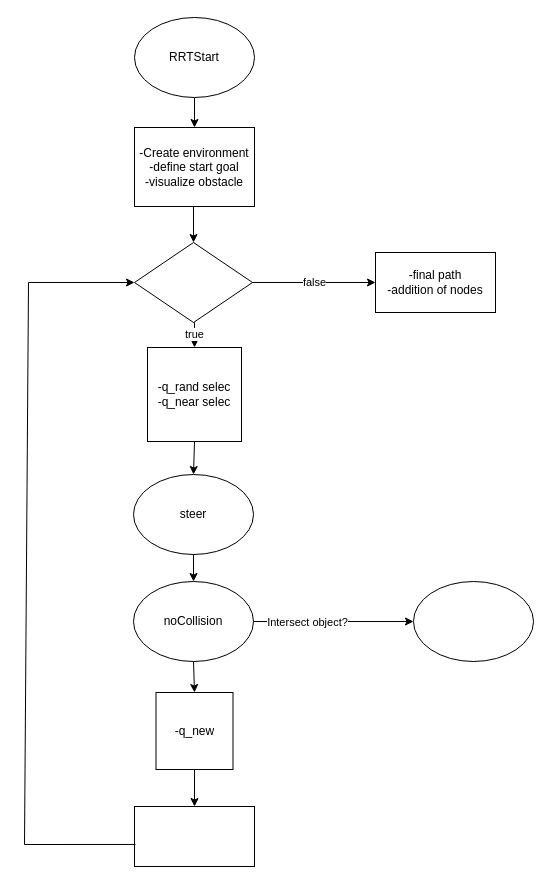
Image size: 551x884. Some labels were removed from this diagram. The shapes that lost their labels are listed below. From the top down, each one's centre as x and y in pixels, then its label:
At pixel 193 282: "for numNodes".
At pixel 473 621: "ccw".
At pixel 194 836: "- select near nodes - select lower cost - update q_new".
